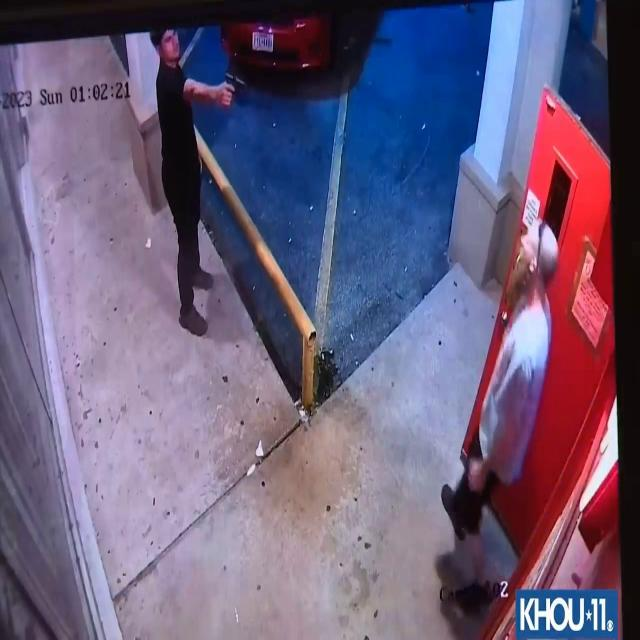penembakan: (148, 25, 258, 338)
